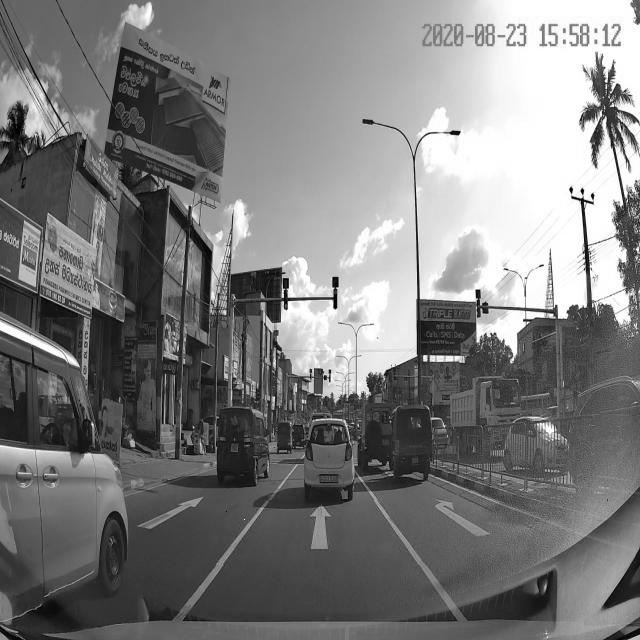forward: (217, 501, 431, 565)
